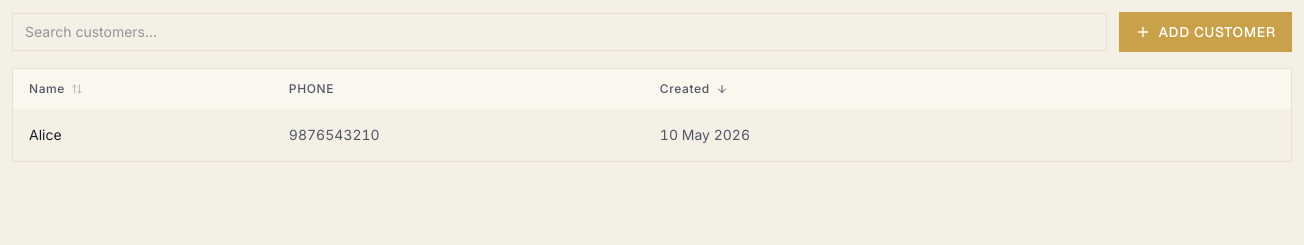
Scenario: CustomersTable › empty states › shows 'No customers match your search' when search filters all rows out
In the search field with placeholder "Search customers…": [559, 32] box [12,13,1107,51], type "zzzzz"
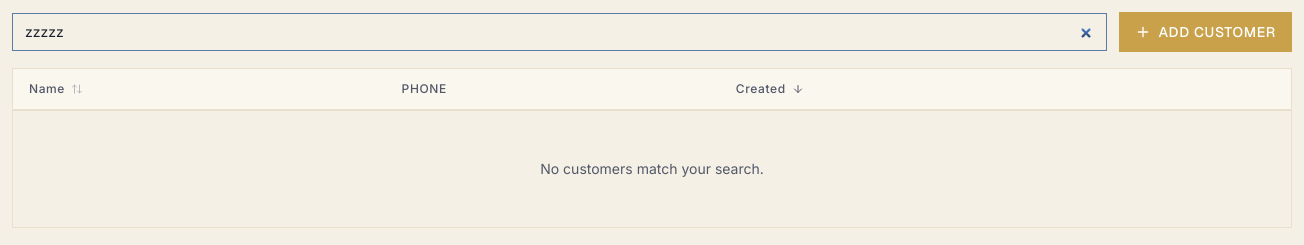
Now the text "No customers match your search." is shown, box [540,160,764,177]
